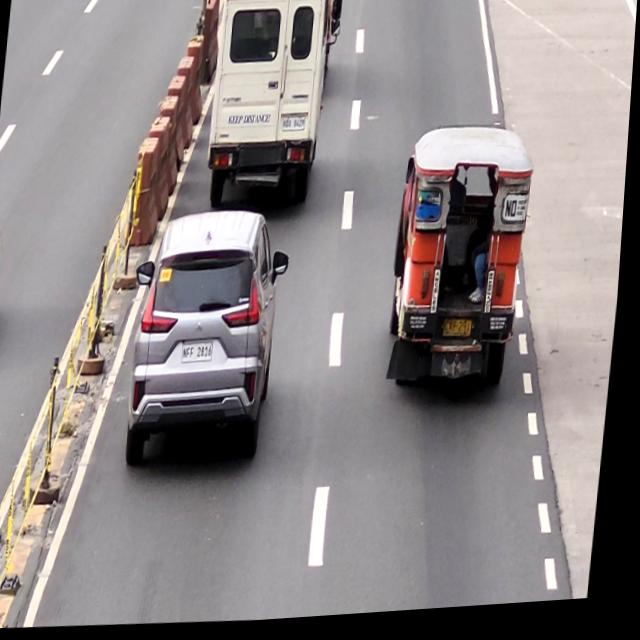Car: (124, 210, 296, 470), (200, 0, 346, 219)
Jeep: (386, 124, 540, 408)
License-Plate: (446, 323, 478, 346), (185, 342, 218, 363), (283, 119, 307, 136)
